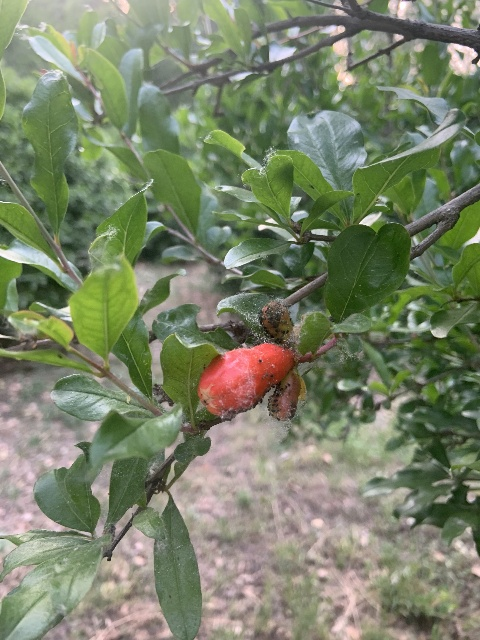bud: (197, 341, 294, 416)
